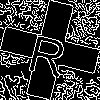R: (25, 25, 72, 78)
